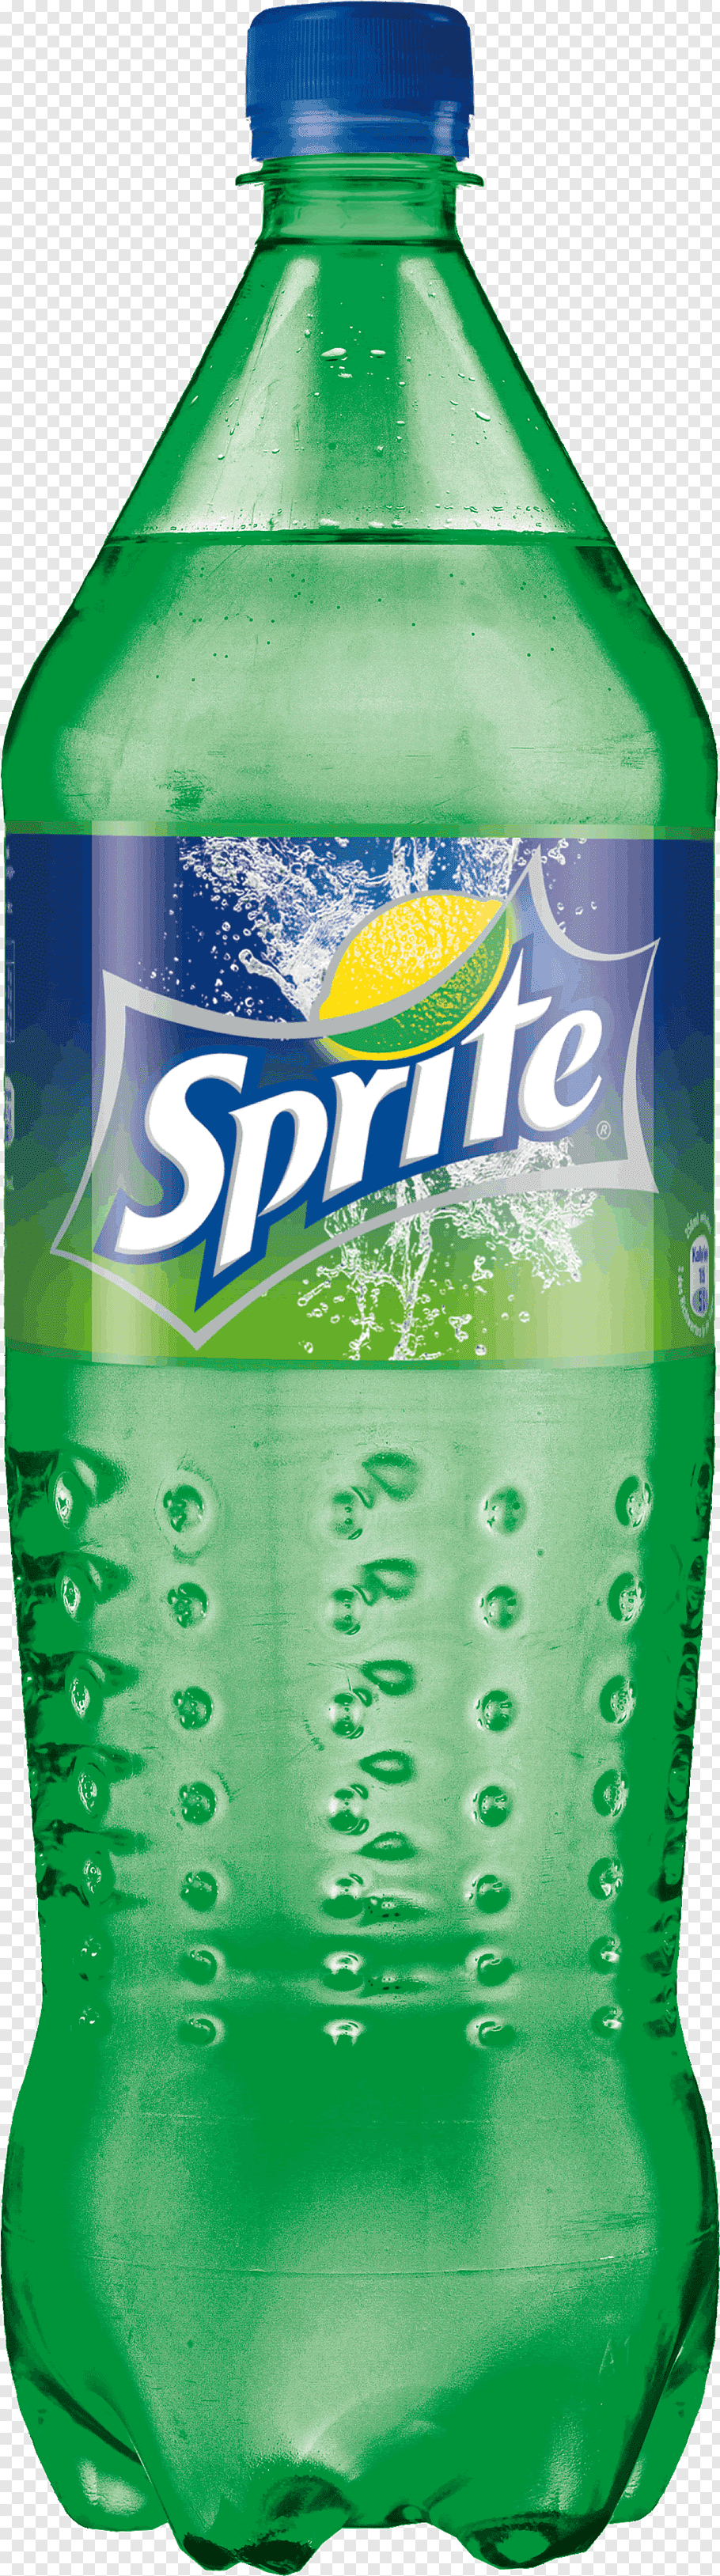sprite_bottle: (10, 3, 713, 2571)
